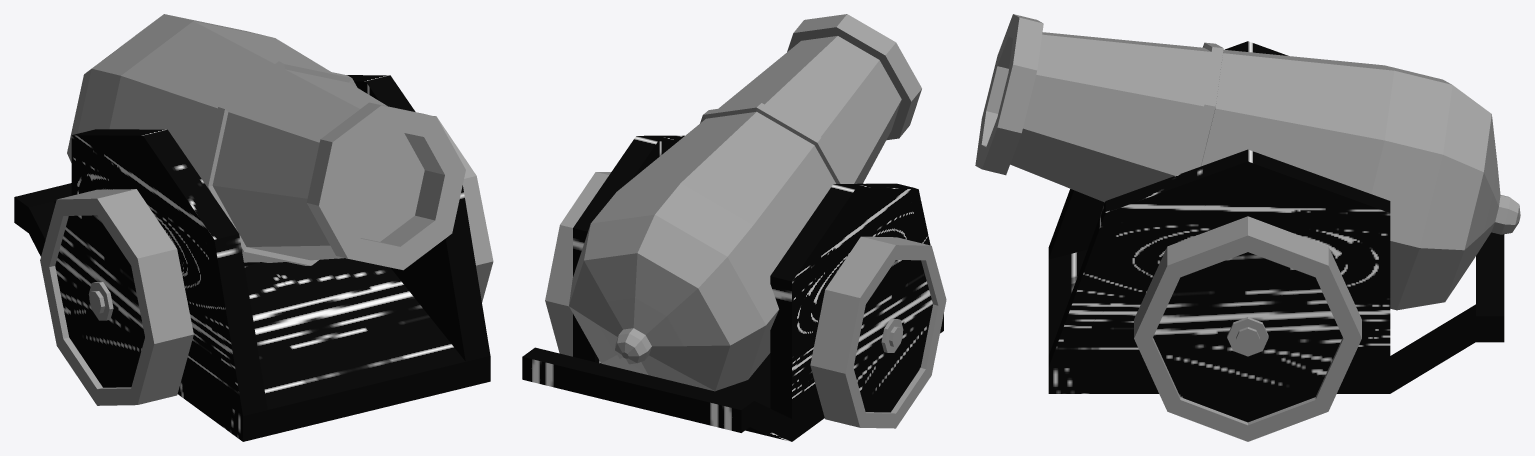
The model's file is Cannon.fbx.
3 views of the same model, side by side, from view 1: azimuth 30°, elevation 25°; view 2: azimuth 150°, elevation 25°; view 3: azimuth 270°, elevation 25° (orthographic). The views are drawn at different scales.
Visible parts, largest first — view 1: Cannon_Base, Cannon; view 2: Cannon, Cannon_Base; view 3: Cannon_Base, Cannon.
Boxes of the visible parts, <box> form: Cannon_Base: <box>14,75,493,441</box>; Cannon: <box>67,14,465,270</box>; Cannon: <box>569,14,921,391</box>; Cannon_Base: <box>522,135,946,441</box>; Cannon_Base: <box>1048,41,1504,441</box>; Cannon: <box>975,14,1520,310</box>.
Size of the model in its own units: 139 by 132 by 191.
